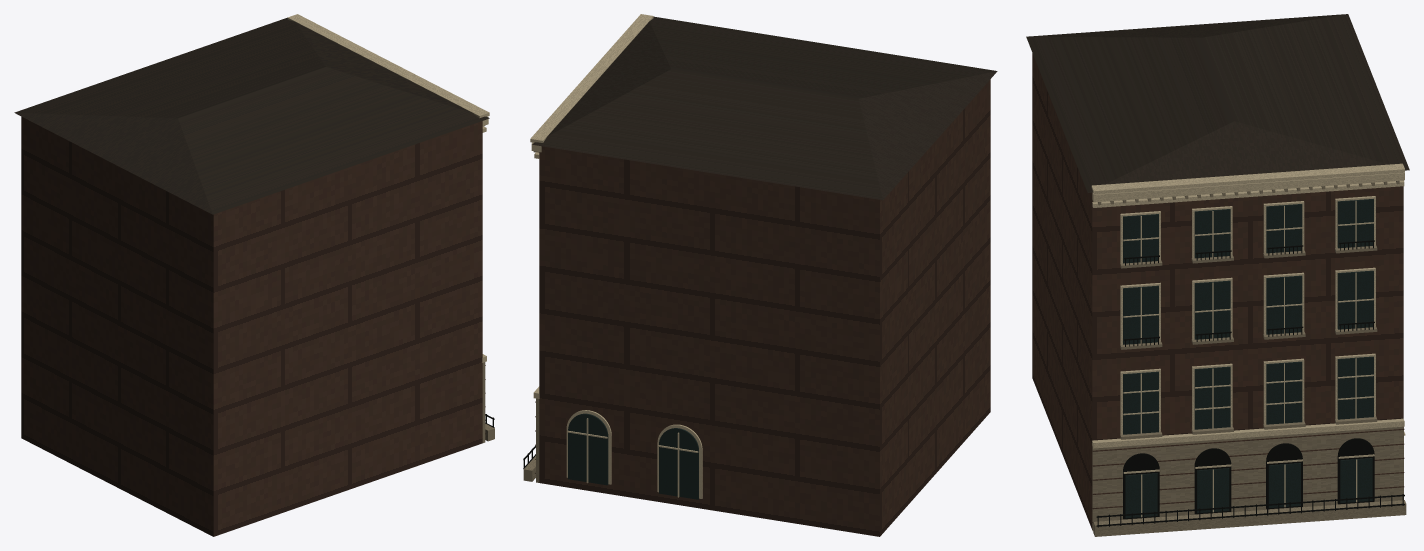
3 renders of one model, left to right at view 1: azimuth 30°, elevation 25°; view 2: azimuth 150°, elevation 25°; view 3: azimuth 270°, elevation 25°, orthographic. The views are drawn at different scales.
Visible parts, largest first — view 1: leuvehaven209-0, leuvehaven209-1, leuvehaven209-3; view 2: leuvehaven209-0, leuvehaven209-1, leuvehaven209-4, leuvehaven209-3, leuvehaven209-5; view 3: leuvehaven209-0, leuvehaven209-1, leuvehaven209-4, leuvehaven209-5, leuvehaven209-3, leuvehaven209-2.
Part boxes in pixels (bbox=[...]): leuvehaven209-0: bbox=[21, 116, 485, 536]; leuvehaven209-1: bbox=[14, 17, 489, 214]; leuvehaven209-3: bbox=[287, 14, 489, 362]; leuvehaven209-0: bbox=[535, 79, 990, 536]; leuvehaven209-1: bbox=[532, 16, 997, 200]; leuvehaven209-4: bbox=[568, 413, 698, 499]; leuvehaven209-3: bbox=[530, 14, 702, 498]; leuvehaven209-5: bbox=[523, 151, 539, 482]; leuvehaven209-0: bbox=[1032, 53, 1404, 529]; leuvehaven209-1: bbox=[1026, 14, 1409, 192]; leuvehaven209-4: bbox=[1123, 199, 1373, 518]; leuvehaven209-5: bbox=[1092, 181, 1406, 536]; leuvehaven209-3: bbox=[1091, 163, 1405, 517]; leuvehaven209-2: bbox=[1096, 240, 1404, 527].
Bounding box in the file's own units: 19.7 × 18.2 × 17.41.
6 materials, 6 textured.
